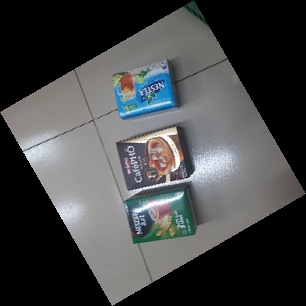CF pho: (115, 126, 191, 193)
Nes Rang: (121, 185, 197, 246)
Nestea: (110, 59, 178, 120)
